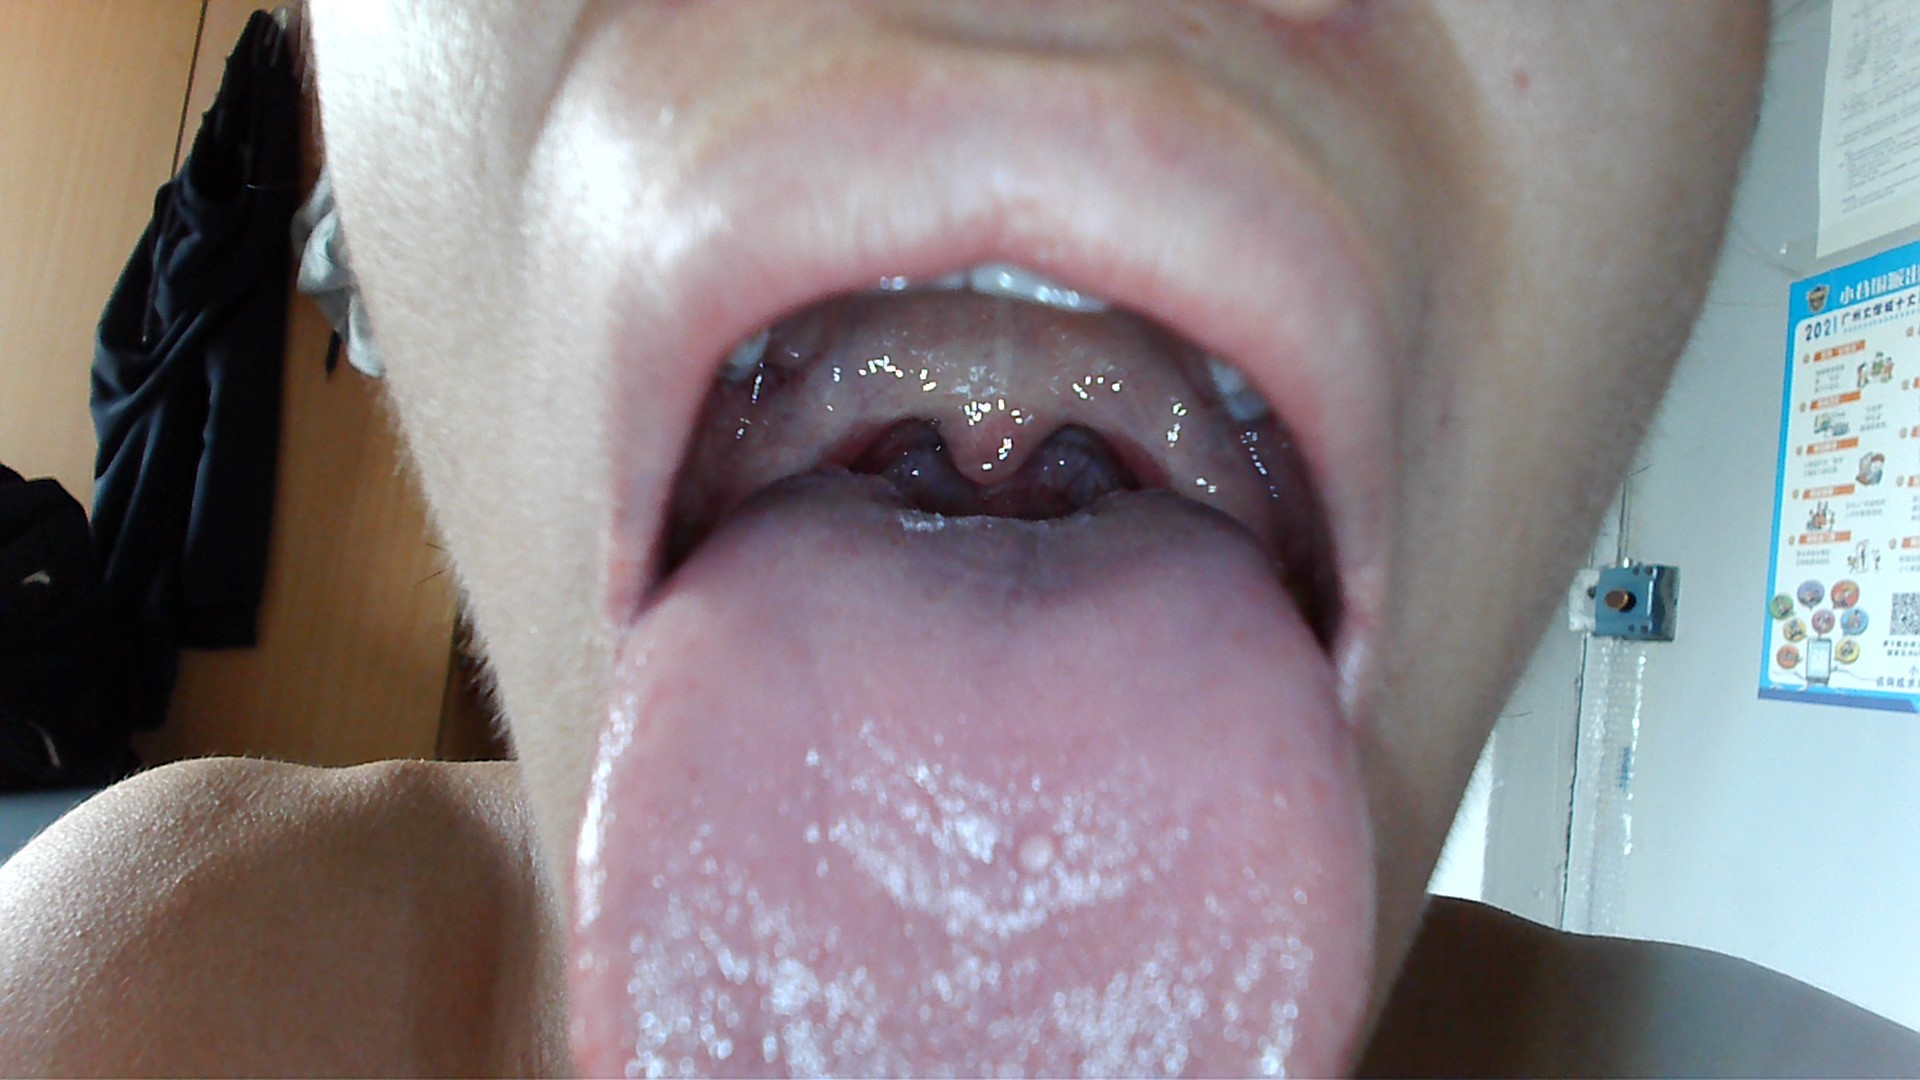throat: (1110, 372, 1189, 488), (774, 380, 874, 468)
